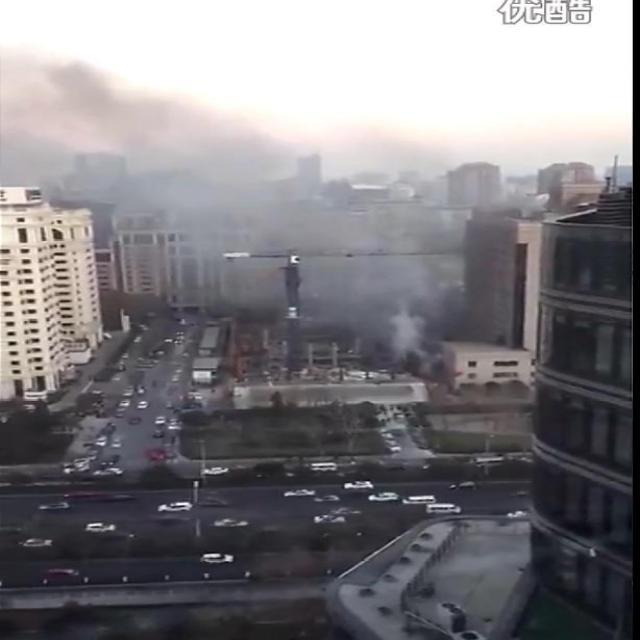Smoke: (1, 44, 545, 374)
